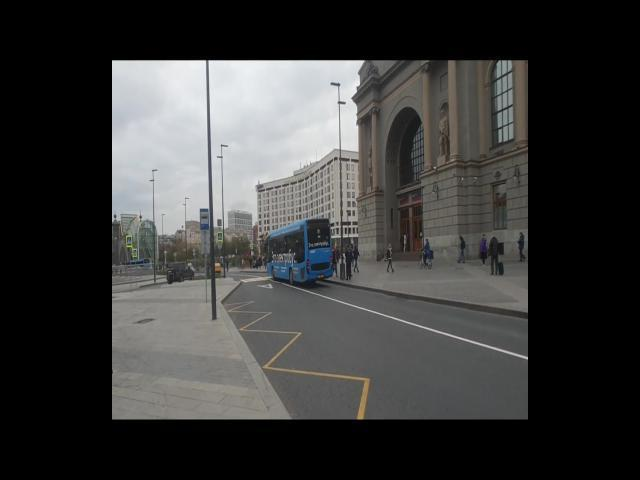bus: (264, 218, 333, 286)
